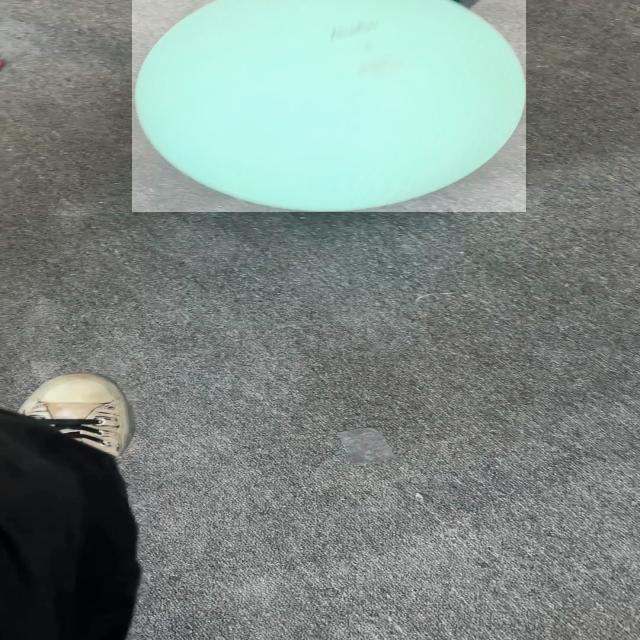Algae: (132, 0, 526, 212)
